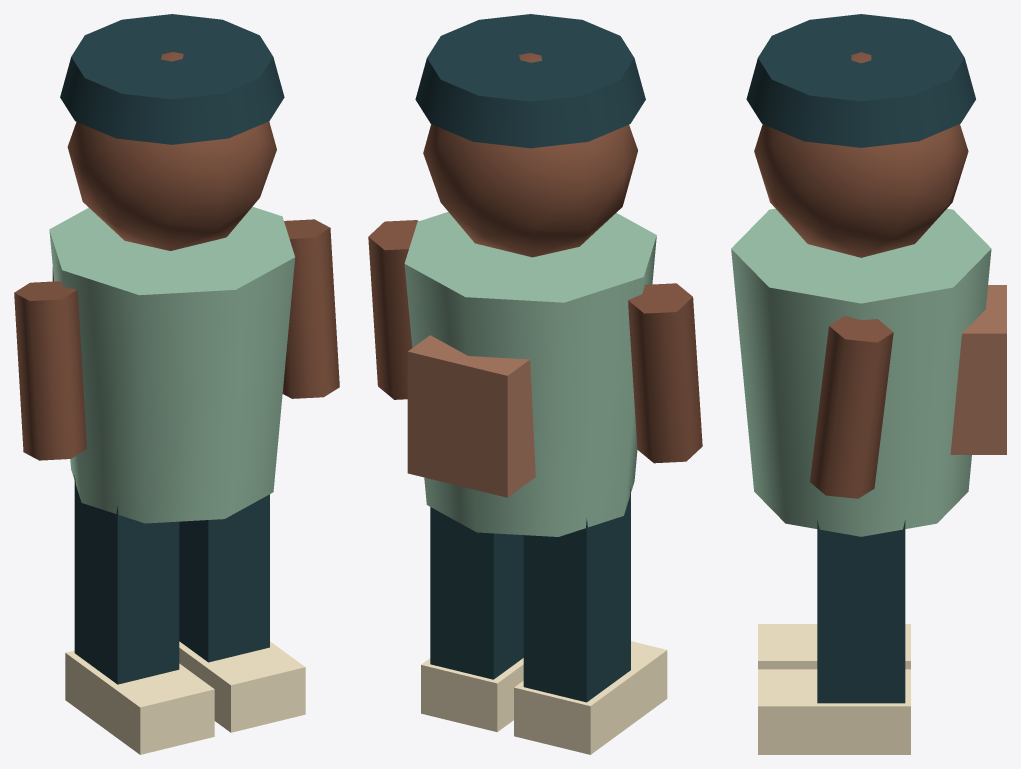
Rendered from guest_d.glb.
The picture shows the model from 3 angles, left to right: view 1: azimuth 30°, elevation 25°; view 2: azimuth 150°, elevation 25°; view 3: azimuth 270°, elevation 25°; orthographic projection. The views are drawn at different scales.
Parts seen in each view (by area): view 1: guest_d; view 2: guest_d; view 3: guest_d.
Part boxes in pixels (left/top/right/bottom): guest_d: left=14, top=14, right=339, bottom=754; guest_d: left=368, top=14, right=702, bottom=754; guest_d: left=731, top=14, right=1006, bottom=754.
Size of the model in its own units: 0.9272 by 1.9 by 0.72.
